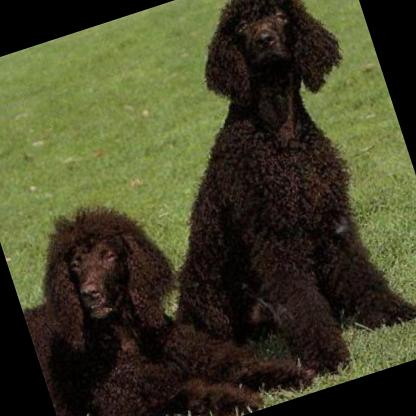Irish_water_spaniel: (76, 0, 416, 411), (0, 152, 320, 416)
